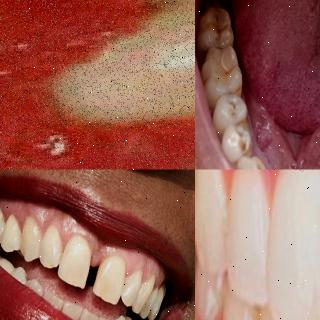Gum Swelling: (0, 0, 152, 169), (212, 170, 286, 200)
calculus: (55, 10, 195, 130), (47, 0, 195, 24), (239, 134, 257, 162), (233, 109, 251, 137), (248, 154, 274, 170)
cavities: (208, 0, 229, 10)
stains: (216, 60, 241, 100), (227, 98, 241, 126), (236, 132, 248, 160)
